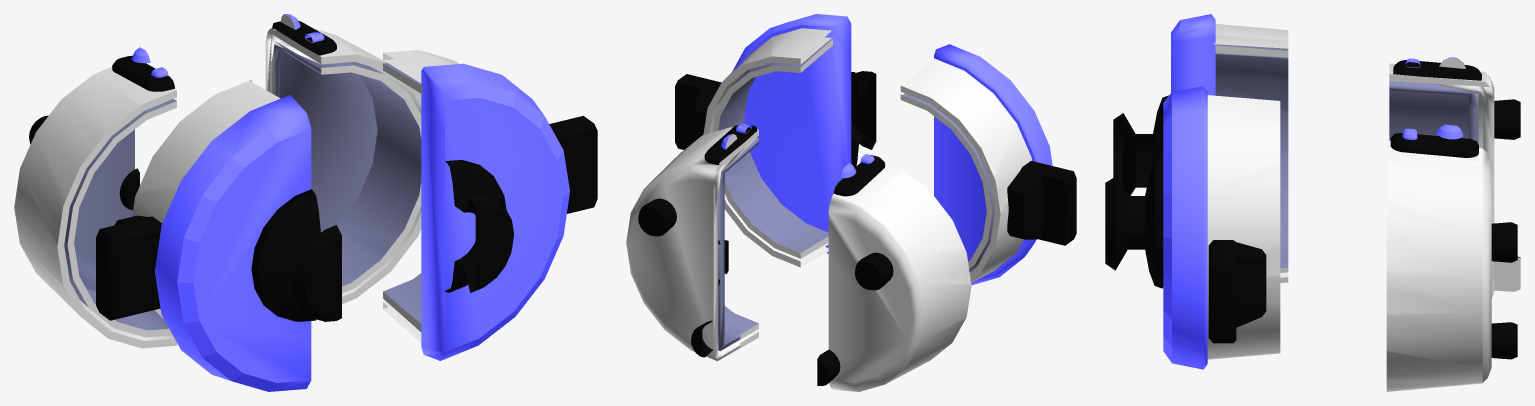
Rendered from item_C.fbx.
The picture shows the model from 3 angles, left to right: view 1: azimuth 30°, elevation 25°; view 2: azimuth 150°, elevation 25°; view 3: azimuth 270°, elevation 25°; orthographic projection. The views are drawn at different scales.
Parts seen in each view (by area): view 1: itemC_pCylinder116.002, itemC_pCylinder116.001, itemC_pCylinder116.003, itemC_pCylinder116; view 2: itemC_pCylinder116.001, itemC_pCylinder116, itemC_pCylinder116.002, itemC_pCylinder116.003; view 3: itemC_pCylinder116.001, itemC_pCylinder116.003, itemC_pCylinder116.002, itemC_pCylinder116.
Part boxes in pixels (x1=…): itemC_pCylinder116.002: x1=96, y1=79, x2=341, y2=391; itemC_pCylinder116.001: x1=383, y1=50, x2=597, y2=360; itemC_pCylinder116.003: x1=265, y1=14, x2=421, y2=303; itemC_pCylinder116: x1=14, y1=47, x2=176, y2=348; itemC_pCylinder116.001: x1=675, y1=14, x2=876, y2=267; itemC_pCylinder116: x1=817, y1=154, x2=971, y2=391; itemC_pCylinder116.002: x1=900, y1=44, x2=1076, y2=285; itemC_pCylinder116.003: x1=626, y1=123, x2=758, y2=361; itemC_pCylinder116.001: x1=1105, y1=86, x2=1280, y2=369; itemC_pCylinder116.003: x1=1386, y1=124, x2=1517, y2=391; itemC_pCylinder116.002: x1=1113, y1=14, x2=1288, y2=282; itemC_pCylinder116: x1=1389, y1=57, x2=1520, y2=298.
Bounding box in the file's own units: 358 × 222 × 281.
